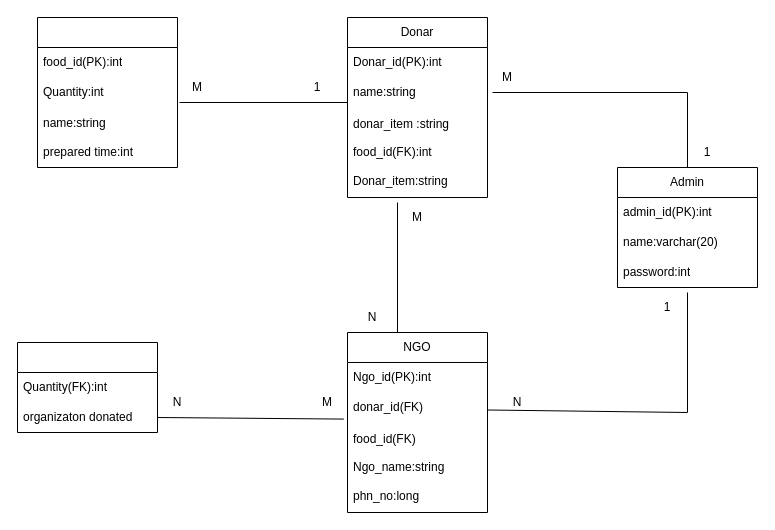
This 775x530 diagram has some shape labels left out. The shapes that lost their labels are listed below. From the top down, each one's box as (x1, y1, x2, y2) in pixels, then its label:
(36, 16, 178, 168): food_item
(16, 342, 158, 432): Records
